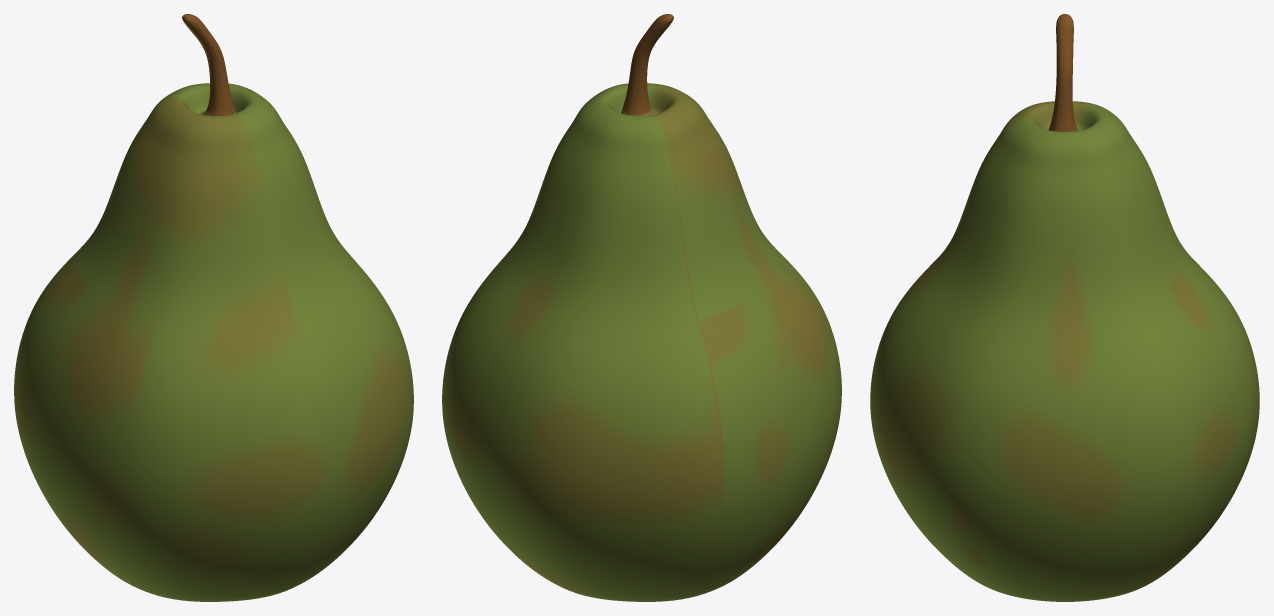
The model's file is Päärynä.fbx.
3 views of the same model, side by side, from view 1: azimuth 30°, elevation 25°; view 2: azimuth 150°, elevation 25°; view 3: azimuth 270°, elevation 25° (orthographic). The views are drawn at different scales.
Visible parts, largest first — view 1: Cube; view 2: Cube; view 3: Cube.
Part boxes in pixels (box(x1,y1,x2,y2)): Cube: box(14, 14, 413, 601); Cube: box(442, 14, 841, 601); Cube: box(870, 14, 1259, 601).
Size of the model in its own units: 319 by 506 by 335.
